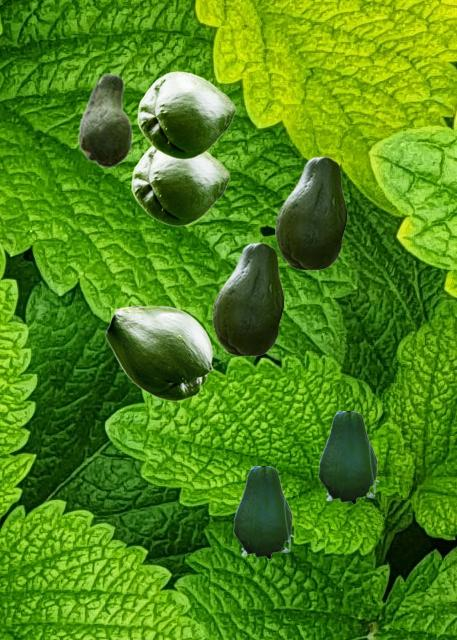sayote: (105, 305, 212, 400), (137, 71, 235, 158), (275, 156, 346, 269), (212, 242, 283, 355), (131, 146, 229, 225), (318, 411, 378, 505), (233, 466, 293, 560), (78, 73, 131, 167)
